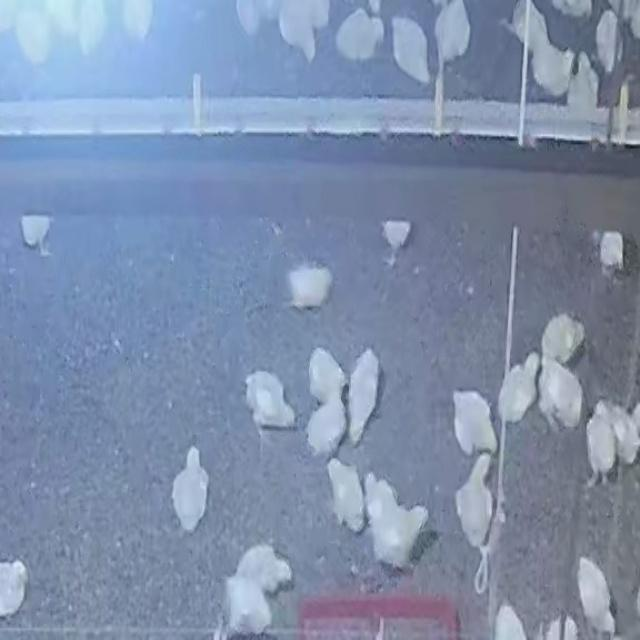chicken: (452, 452, 495, 555), (344, 343, 383, 448), (446, 385, 502, 457), (168, 445, 212, 535), (239, 367, 300, 431), (580, 398, 622, 490), (324, 453, 368, 537), (494, 346, 540, 426), (536, 361, 586, 432), (234, 543, 296, 594), (533, 311, 592, 363), (305, 388, 348, 458), (392, 11, 432, 86), (332, 10, 386, 60)
